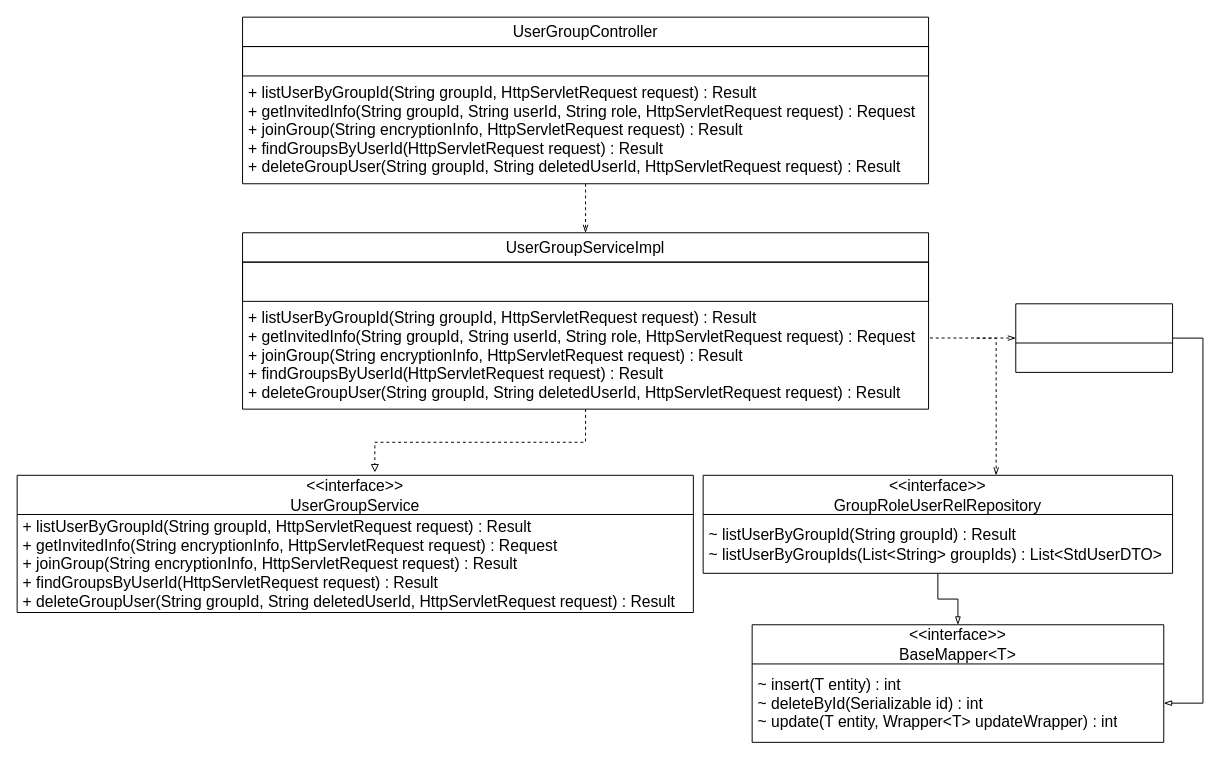
This 1228x760 diagram has some shape labels left out. The shapes that lost their labels are listed below. From the top down, each one's centre as x and y in pixels, then its label:
At (x=585, y=61): "- userGroupServiceImpl".
At (x=585, y=281): "- groupRoleUserRelRepository - roleRepository".
At (x=1094, y=337): "<<interface>> RoleRepository".
